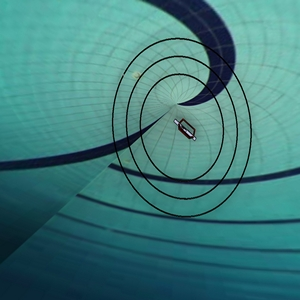circle: (106, 34, 256, 224)
submarine: (166, 110, 203, 146)
